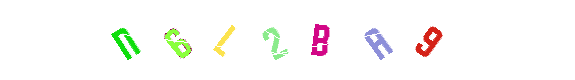2: (247, 0, 327, 80)
6: (174, 0, 254, 80)
9: (383, 0, 463, 80)
A: (327, 0, 407, 80)
B: (273, 0, 353, 80)
L: (210, 0, 290, 80)
N: (84, 0, 164, 80)
